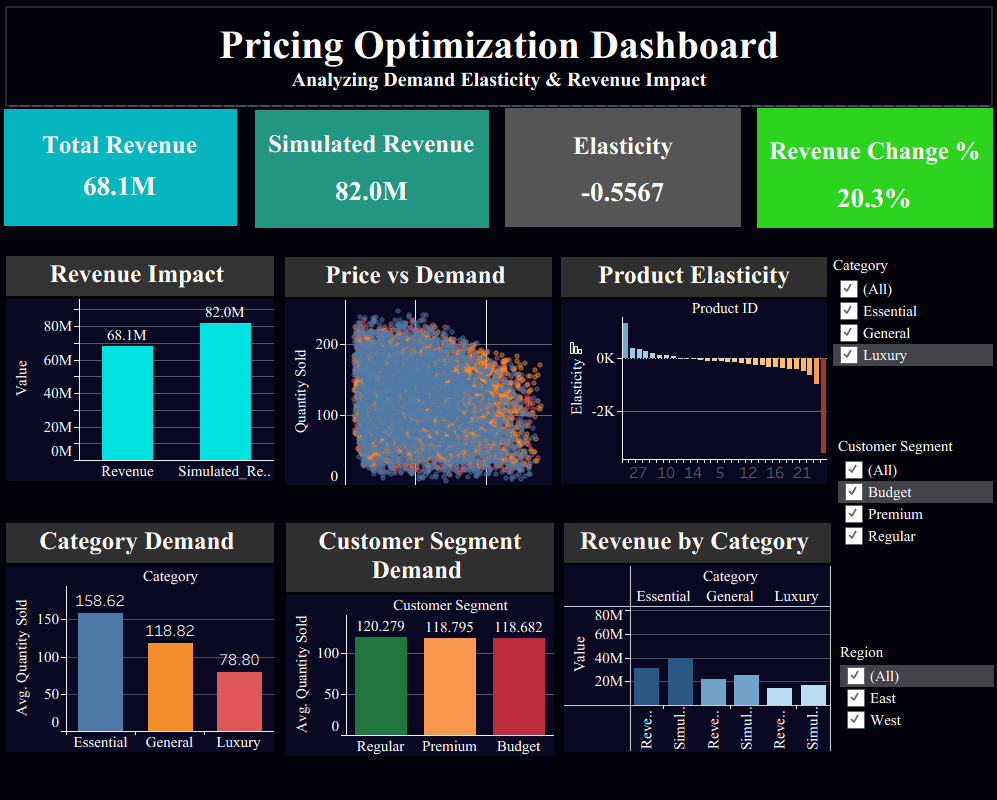

The page's visual inventory and layout, read from the dashboard file:
{"tool":"tableau","page":{"name":"Dashboard 1","canvas":[1000,800],"ordinal":0},"visuals":[{"type":"title","box":[8,8,984,97]},{"type":"worksheet","title":"Elasticity","mark":"Automatic","box":[506,108,236,119]},{"type":"worksheet","title":"Revenue Change %","mark":"Automatic","box":[758,108,236,120]},{"type":"worksheet","title":"Total Revenue ","mark":"Automatic","box":[5,109,233,117]},{"type":"worksheet","title":"Simulated Revenue ","mark":"Automatic","box":[256,110,234,118]},{"type":"worksheet","title":"Revenue Impact of Price Change","mark":"Bar","box":[7,256,268,225]},{"type":"worksheet","title":"Price vs Demand Relationship","mark":"Automatic","rows":["Quantity_Sold"],"cols":["Actual_Price"],"box":[286,257,267,228]},{"type":"worksheet","title":"Elasticity by Product","mark":"Automatic","rows":["Elasticity"],"cols":["Product_ID"],"box":[562,257,266,227]},{"type":"filter","title":"Price vs Demand Relationship","param":"[federated.0pouyir1kgd3621b61vkp1pdmtu6].[none:Category:nk]","box":[834,257,160,131]},{"type":"filter","title":"Price vs Demand Relationship","param":"[federated.0pouyir1kgd3621b61vkp1pdmtu6].[none:Customer_Segment:nk]","box":[839,438,155,141]},{"type":"worksheet","title":"Category Demand Comparison","mark":"Automatic","rows":["Quantity_Sold"],"cols":["Category"],"box":[7,523,268,229]},{"type":"worksheet","title":"Customer Segment Demand","mark":"Automatic","rows":["Quantity_Sold"],"cols":["Customer_Segment"],"box":[287,523,268,233]},{"type":"worksheet","title":"Revenue by Category (Before vs After Pricing)","mark":"Automatic","cols":["Category"],"box":[565,523,267,230]},{"type":"filter","title":"Price vs Demand Relationship","param":"[federated.0pouyir1kgd3621b61vkp1pdmtu6].[none:Region:nk]","box":[841,644,154,103]}]}

Visuals, with their boxes in screenshot pixels (x1, y1, x2, y2), scaled from the page's 1000x800 canvas onto the 997x800 screenshot:
title: crop(8, 8, 989, 105)
"Elasticity" worksheet: crop(504, 108, 740, 227)
"Revenue Change %" worksheet: crop(756, 108, 991, 228)
"Total Revenue " worksheet: crop(5, 109, 237, 226)
"Simulated Revenue " worksheet: crop(255, 110, 489, 228)
"Revenue Impact of Price Change" worksheet (Bar marks): crop(7, 256, 274, 481)
"Price vs Demand Relationship" worksheet: crop(285, 257, 551, 485)
"Elasticity by Product" worksheet: crop(560, 257, 826, 484)
"Price vs Demand Relationship" filter: crop(831, 257, 991, 388)
"Price vs Demand Relationship" filter: crop(836, 438, 991, 579)
"Category Demand Comparison" worksheet: crop(7, 523, 274, 752)
"Customer Segment Demand" worksheet: crop(286, 523, 553, 756)
"Revenue by Category (Before vs After Pricing)" worksheet: crop(563, 523, 830, 753)
"Price vs Demand Relationship" filter: crop(838, 644, 992, 747)
